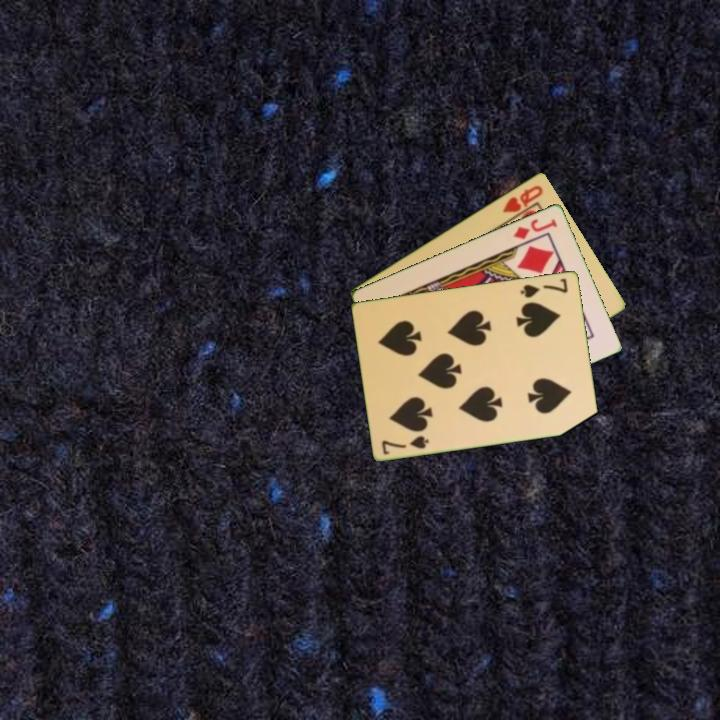7s: (517, 274, 571, 300), (378, 432, 432, 457)
Jd: (509, 215, 560, 242)
Qh: (499, 181, 546, 216)
